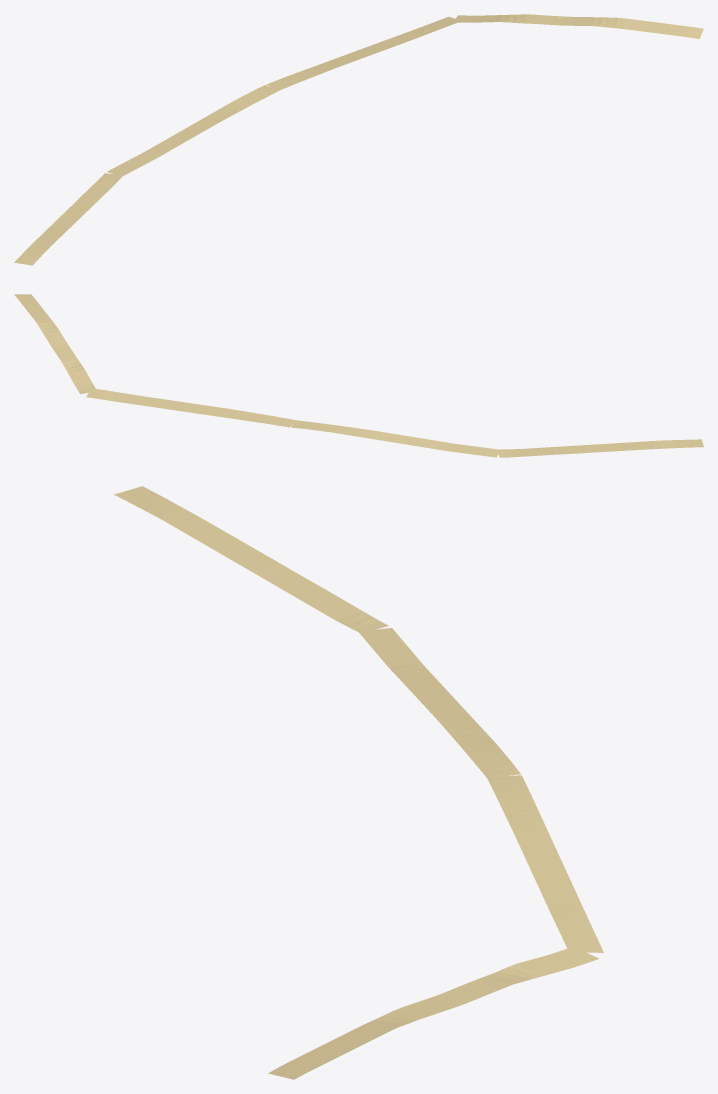
Rendered from Trail_29.glb.
3 renders of one model, top to bottom at view 1: azimuth 30°, elevation 25°; view 2: azimuth 150°, elevation 25°; view 3: azimuth 270°, elevation 25°, orthographic. The views are drawn at different scales.
Parts seen in each view (by area): view 1: Trail_29; view 2: Trail_29; view 3: Trail_29.
Boxes of the visible parts, box(x1,y1,x2,y2) form: Trail_29: box(14, 14, 703, 265); Trail_29: box(14, 294, 703, 457); Trail_29: box(114, 486, 603, 1079).
Size of the model in its own units: 73.7 by 2.62 by 23.99.
